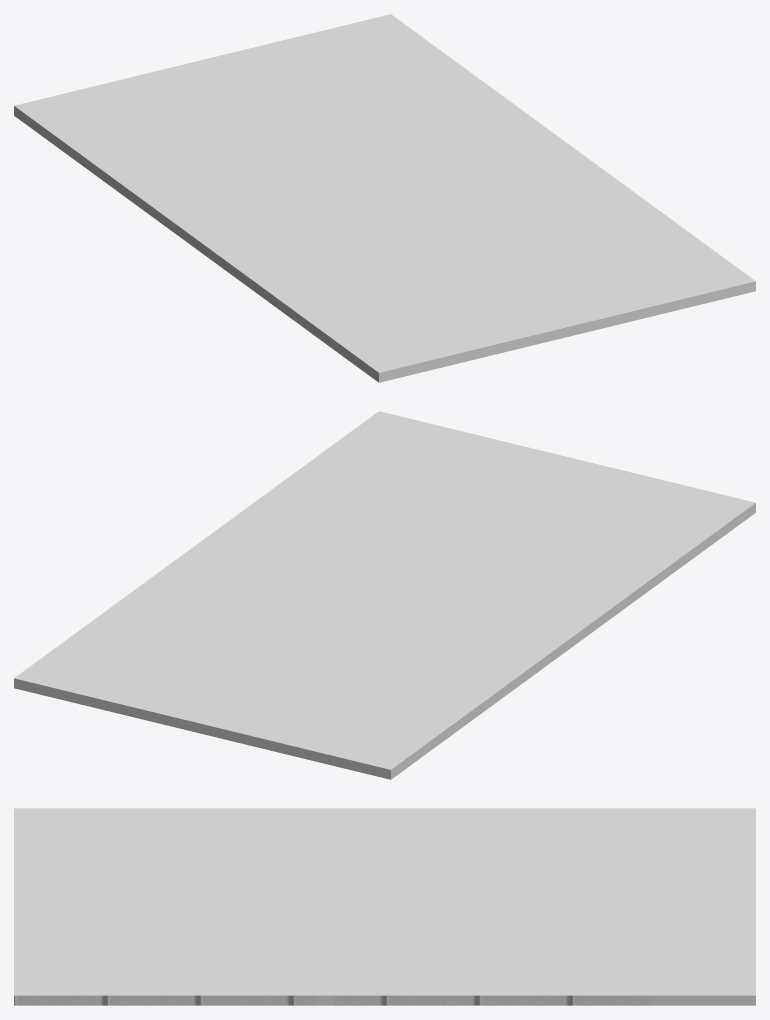
The model's file is r47_ceil.fbx.
3 renders of one model, top to bottom at view 1: azimuth 30°, elevation 25°; view 2: azimuth 150°, elevation 25°; view 3: azimuth 270°, elevation 25°, orthographic.
Visible parts, largest first — view 1: iut.001; view 2: iut.001; view 3: iut.001.
Part boxes in pixels (bbox=[...]): iut.001: bbox=[14, 14, 755, 382]; iut.001: bbox=[14, 411, 755, 779]; iut.001: bbox=[14, 808, 755, 1005].
Size of the model in its own units: 13.29 by 0.3474 by 22.29.
2 materials, 1 textured.
